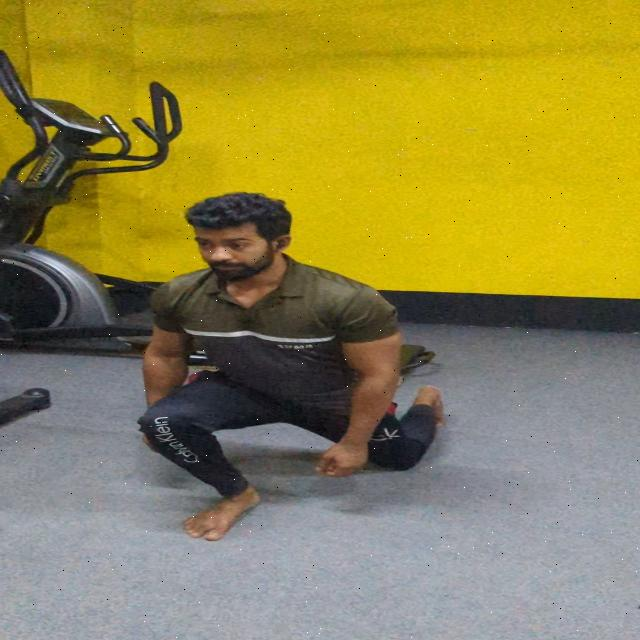Normal_Lunges: (7, 143, 640, 578)
